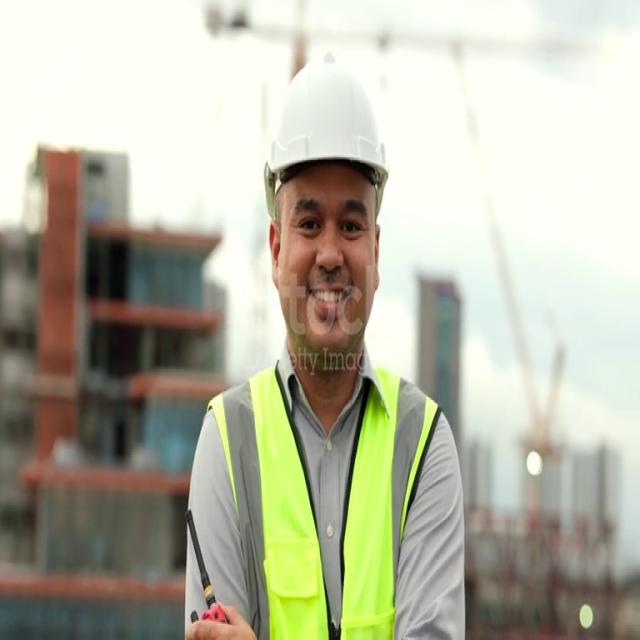capacete: (253, 44, 397, 221)
